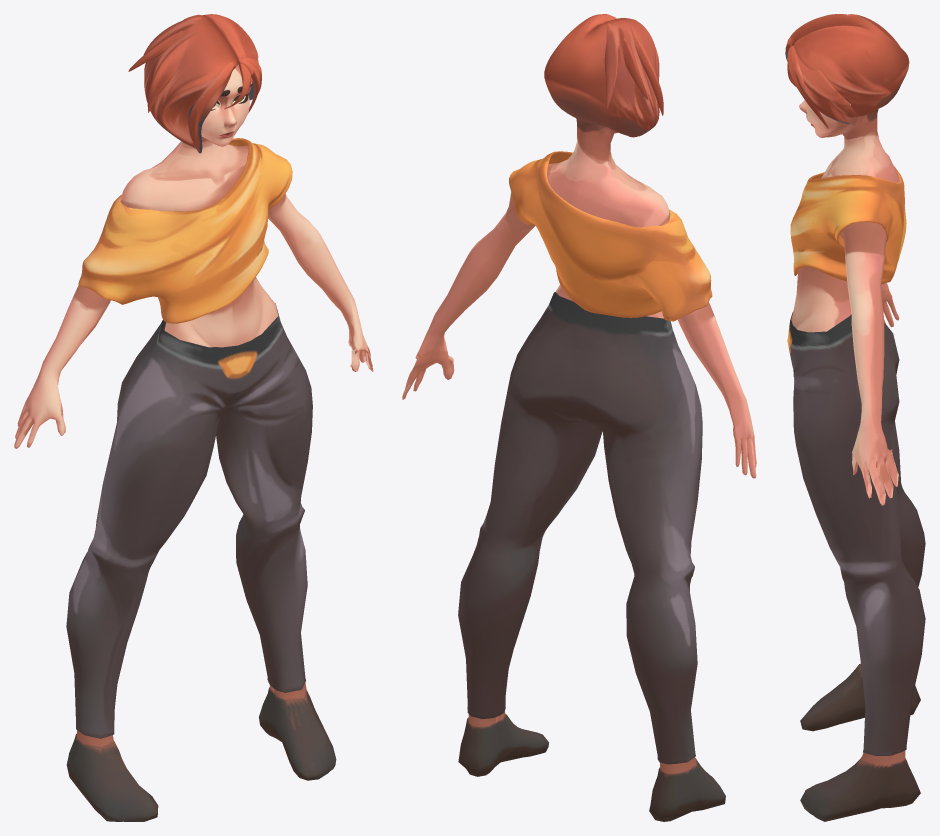
The model's file is female.gltf.
3 renders of one model, left to right at view 1: azimuth 30°, elevation 25°; view 2: azimuth 150°, elevation 25°; view 3: azimuth 270°, elevation 25°, orthographic. The views are drawn at different scales.
Visible parts, largest first — view 1: Object_2, Object_3; view 2: Object_2, Object_3; view 3: Object_2, Object_3.
Part boxes in pixels (left/top/right/bottom): Object_2: left=66, top=14, right=336, bottom=821; Object_3: left=14, top=64, right=373, bottom=448; Object_2: left=458, top=14, right=725, bottom=821; Object_3: left=402, top=118, right=756, bottom=478; Object_2: left=785, top=14, right=925, bottom=821; Object_3: left=790, top=100, right=906, bottom=505.
Bounding box in the file's own units: 1.54 × 3.18 × 0.5384.
Materials: 2 (2 with a texture image).
